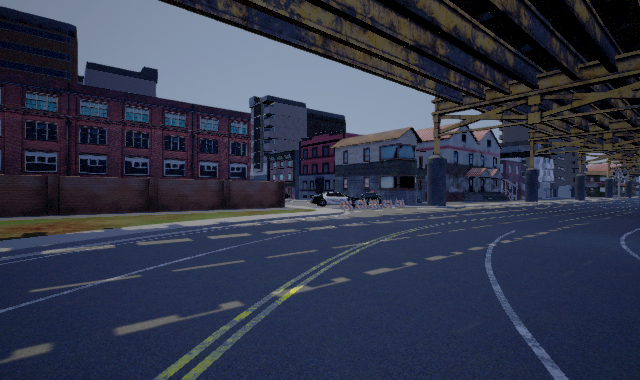vehicle: (310, 191, 360, 208)
